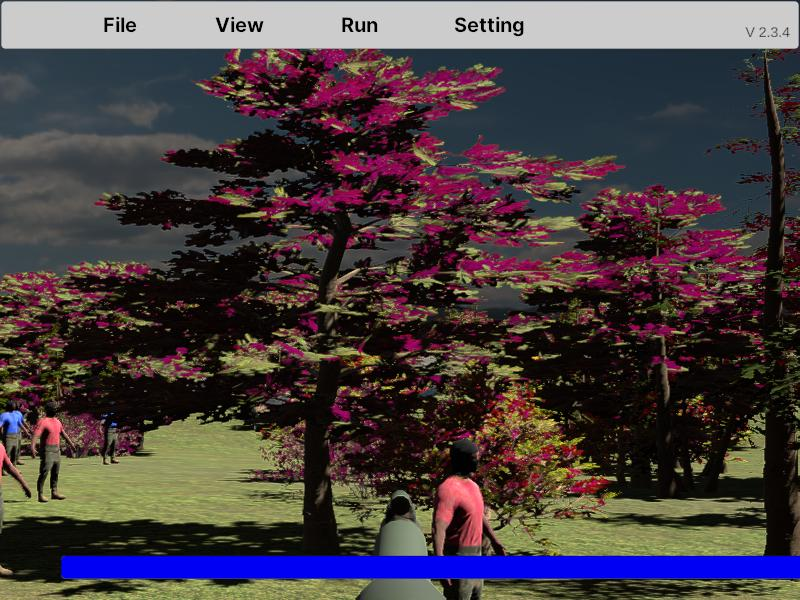Human: (432, 437, 504, 600), (0, 416, 32, 582), (32, 402, 75, 503), (0, 400, 33, 472)
